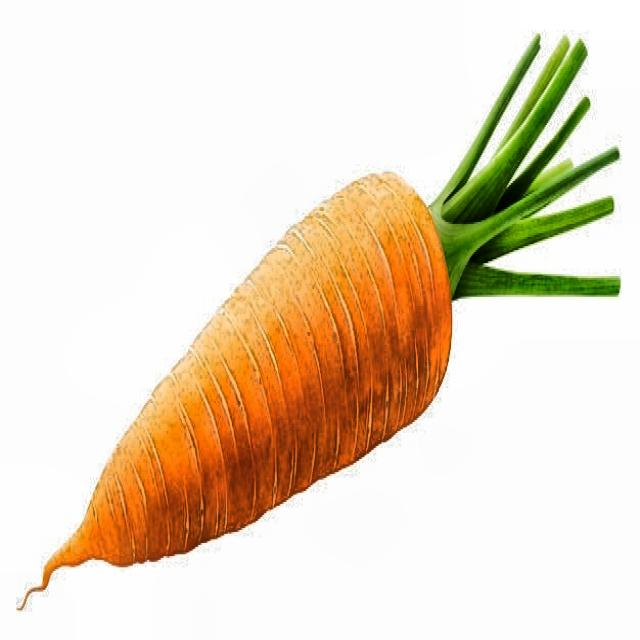carrot: (21, 19, 626, 627)
